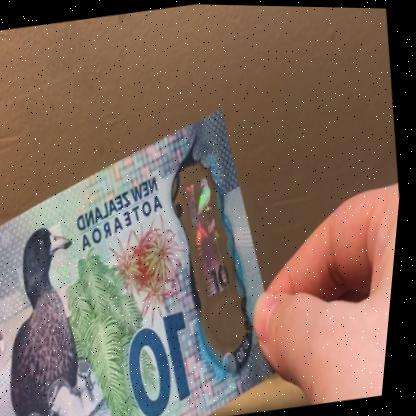10F: (174, 160, 248, 317)
